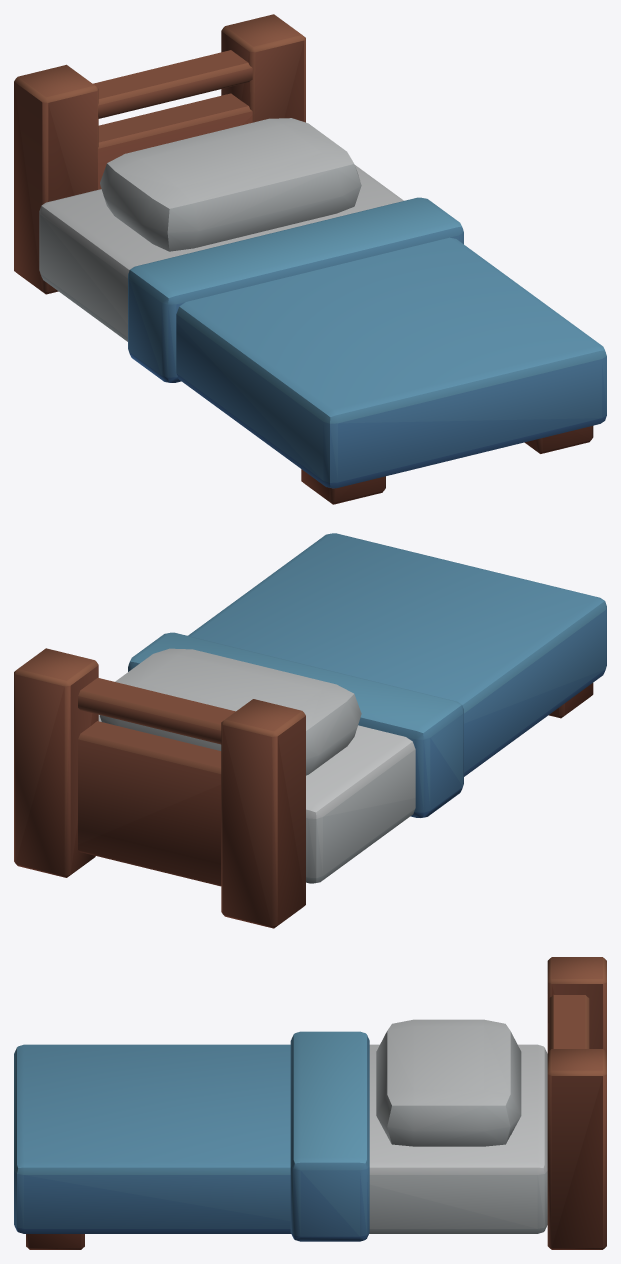
File: kk_furniture_bed_single_A.glb
3 views of the same model, one above another, from view 1: azimuth 30°, elevation 25°; view 2: azimuth 150°, elevation 25°; view 3: azimuth 270°, elevation 25° (orthographic). The views are drawn at different scales.
Parts seen in each view (by area): view 1: kk_furniture_bed_single_A; view 2: kk_furniture_bed_single_A; view 3: kk_furniture_bed_single_A.
Boxes of the visible parts, box(x1,y1,x2,y2) form: kk_furniture_bed_single_A: box(14, 14, 606, 504); kk_furniture_bed_single_A: box(14, 533, 606, 928); kk_furniture_bed_single_A: box(14, 957, 606, 1249).
Size of the model in its own units: 1.6 by 1 by 3.
